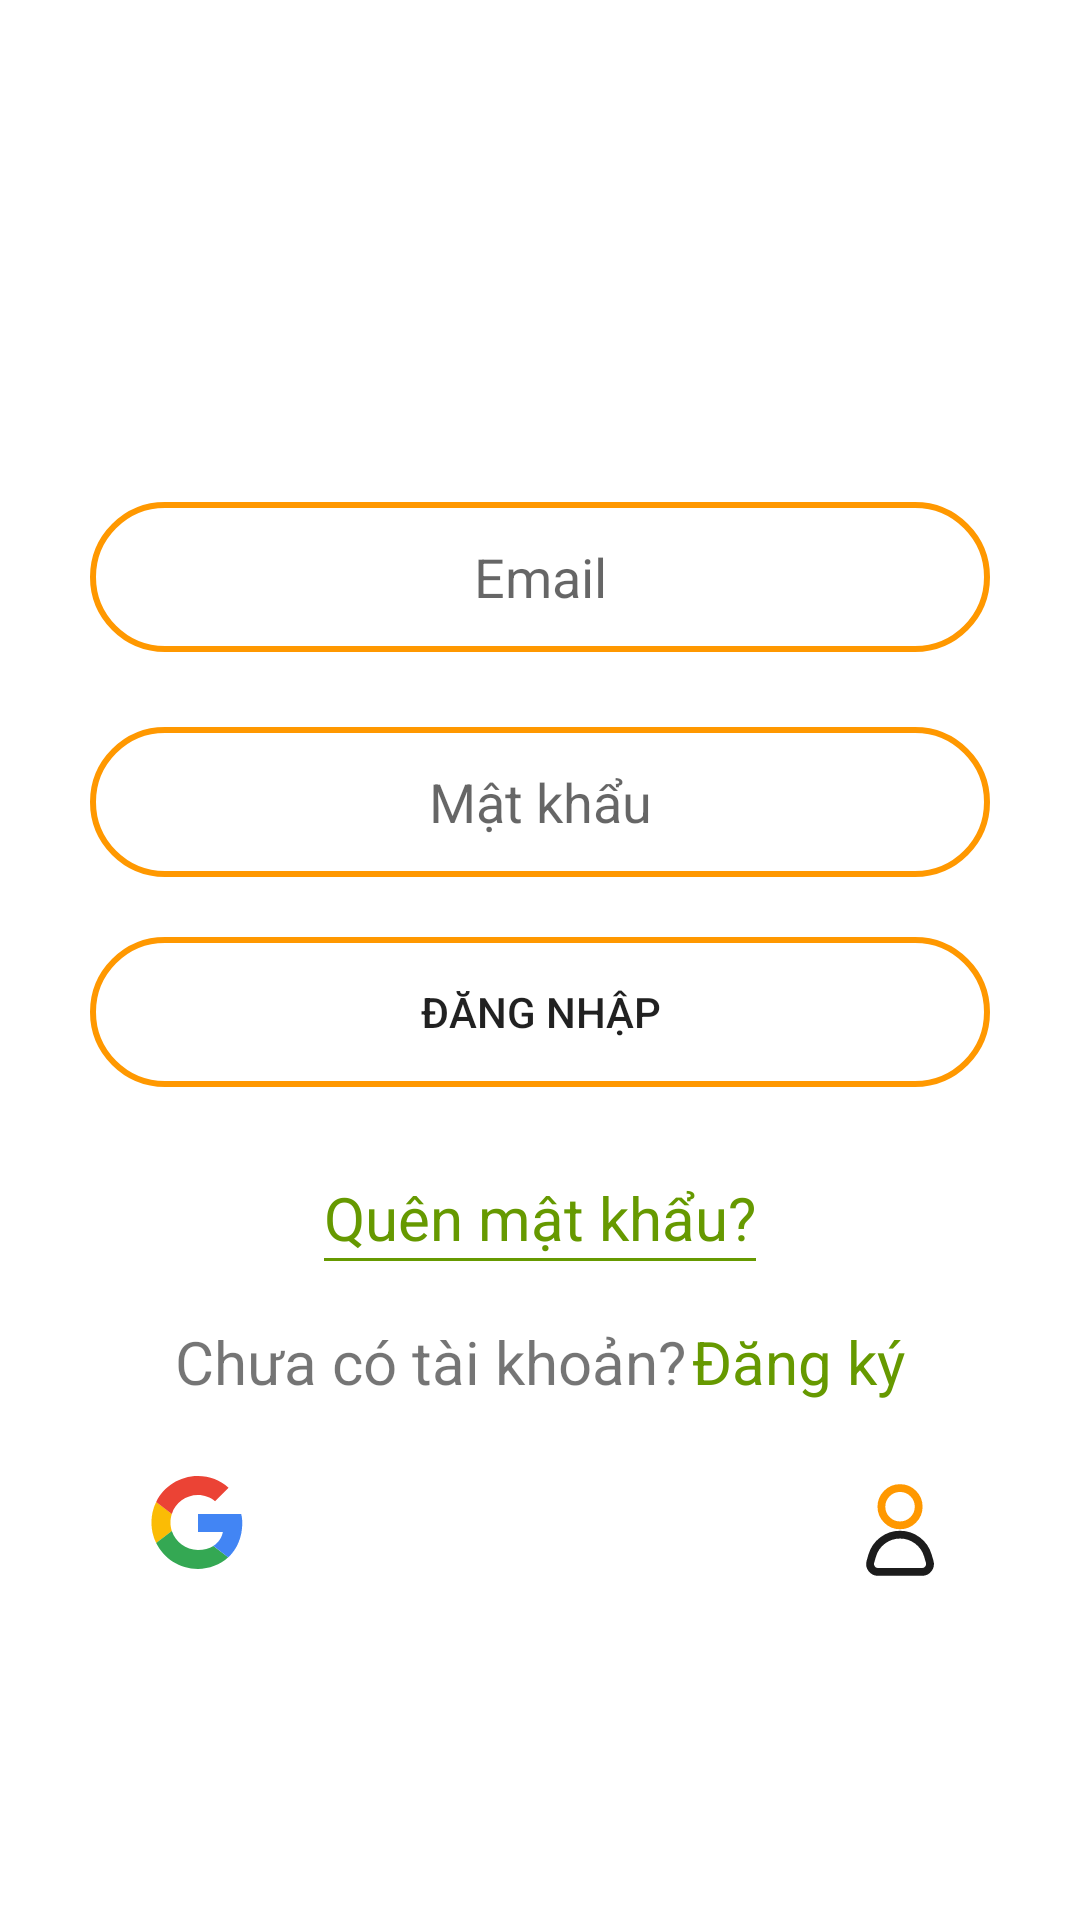

Locate icon controls on the screen. Image size 1080px x 1920px, boxes as (x1, y1, x2, y2).
user khach: (866, 1484, 934, 1576)
